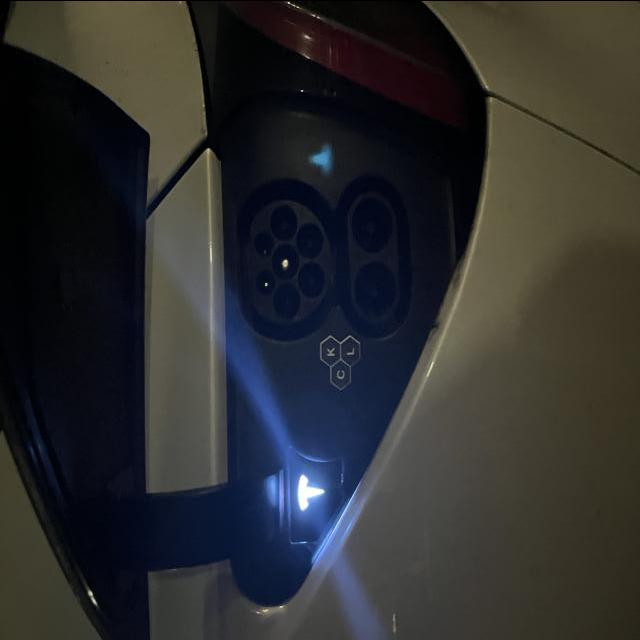inlet: (250, 199, 331, 325)
inlet-above-left: (255, 269, 275, 295)
inlet-above-right: (254, 229, 273, 255)
inlet-below-left: (297, 261, 325, 297)
inlet-below-right: (296, 222, 324, 258)
inlet-center: (271, 243, 299, 279)
inlet-center-left: (273, 282, 301, 318)
inlet-center-right: (270, 204, 298, 240)
